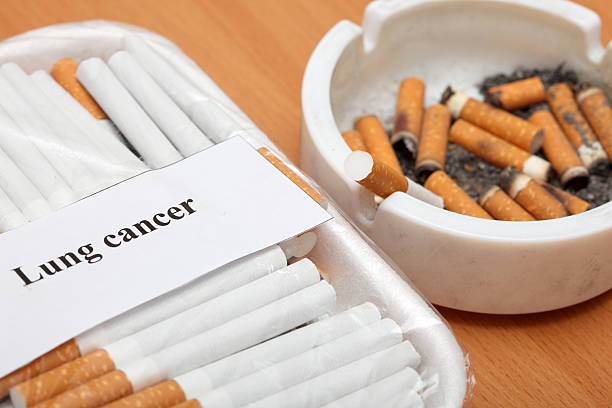cigarette: (7, 256, 320, 408), (0, 242, 289, 402), (28, 280, 337, 408), (119, 32, 331, 212), (97, 301, 382, 408), (168, 318, 404, 408), (0, 60, 130, 187), (24, 68, 157, 176), (0, 72, 106, 200), (244, 340, 422, 408), (75, 57, 184, 166), (107, 50, 212, 156), (0, 102, 80, 210), (49, 59, 126, 148), (449, 118, 552, 181), (445, 91, 543, 156), (342, 149, 446, 209), (544, 80, 608, 171), (528, 110, 589, 190), (315, 365, 424, 408), (0, 144, 52, 221), (423, 167, 494, 219), (353, 115, 405, 175), (415, 102, 451, 186), (506, 173, 571, 219), (575, 85, 612, 163), (392, 77, 425, 153), (477, 184, 537, 222), (487, 76, 545, 110), (539, 180, 592, 215), (0, 183, 29, 236), (342, 129, 370, 150)
